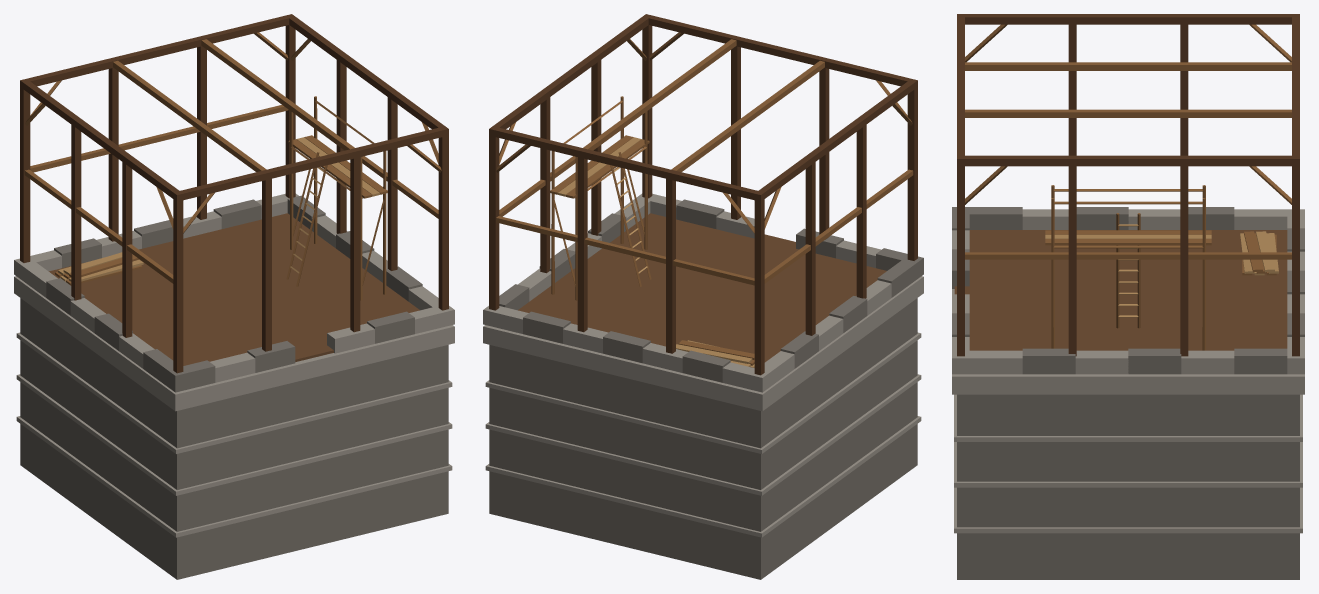
The model's file is site_7x7_2.glb.
3 views of the same model, side by side, from view 1: azimuth 30°, elevation 25°; view 2: azimuth 150°, elevation 25°; view 3: azimuth 270°, elevation 25° (orthographic). The views are drawn at different scales.
Visible parts, largest first — view 1: site_7x7_2; view 2: site_7x7_2; view 3: site_7x7_2.
Part boxes in pixels (x1,y1,x2,y2): site_7x7_2: (14, 14, 454, 579); site_7x7_2: (483, 14, 923, 579); site_7x7_2: (952, 14, 1304, 579).
Bounding box in the file's own units: 7 × 9.22 × 7.
